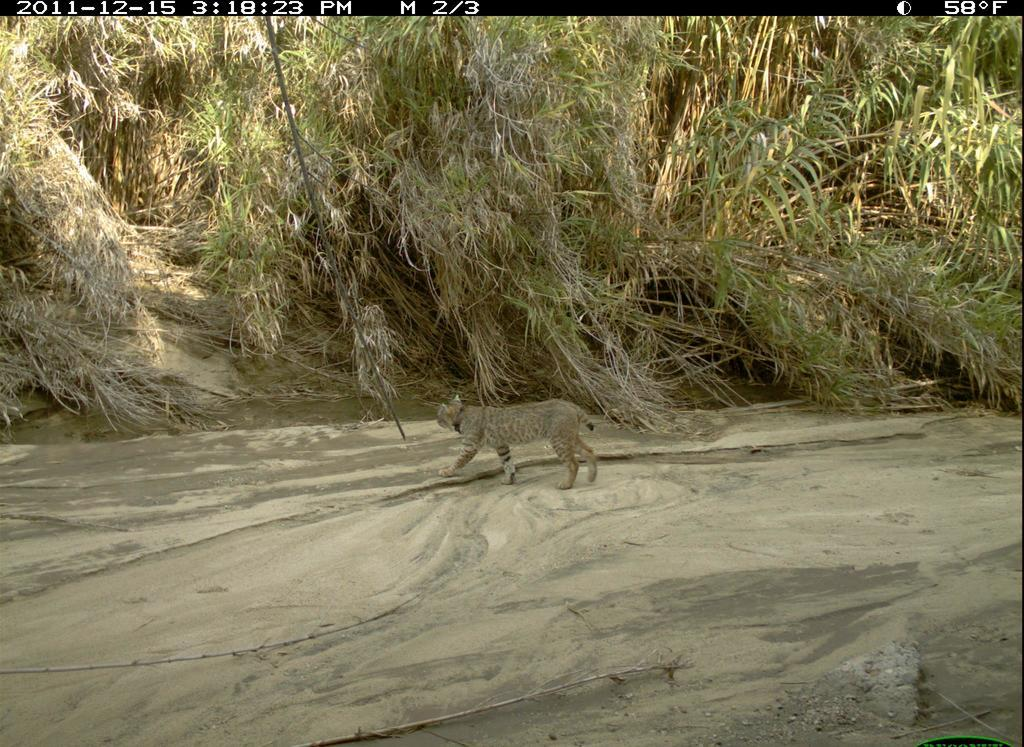bobcat: (429, 388, 626, 500)
